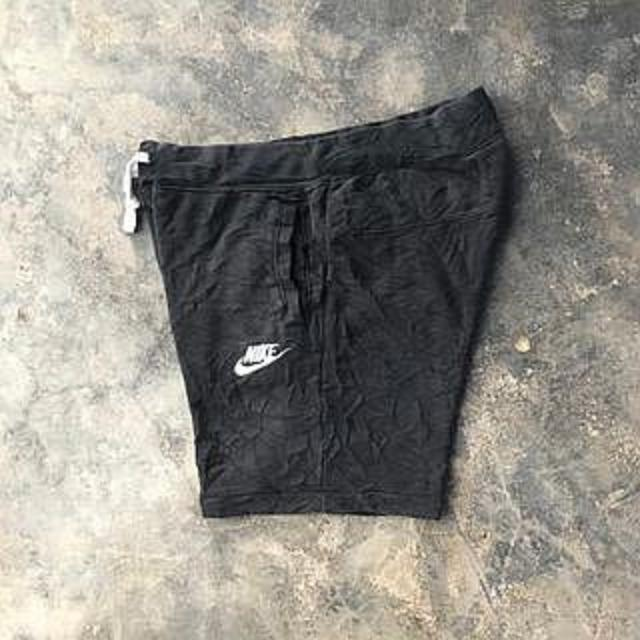SHORT: (117, 84, 538, 538)
